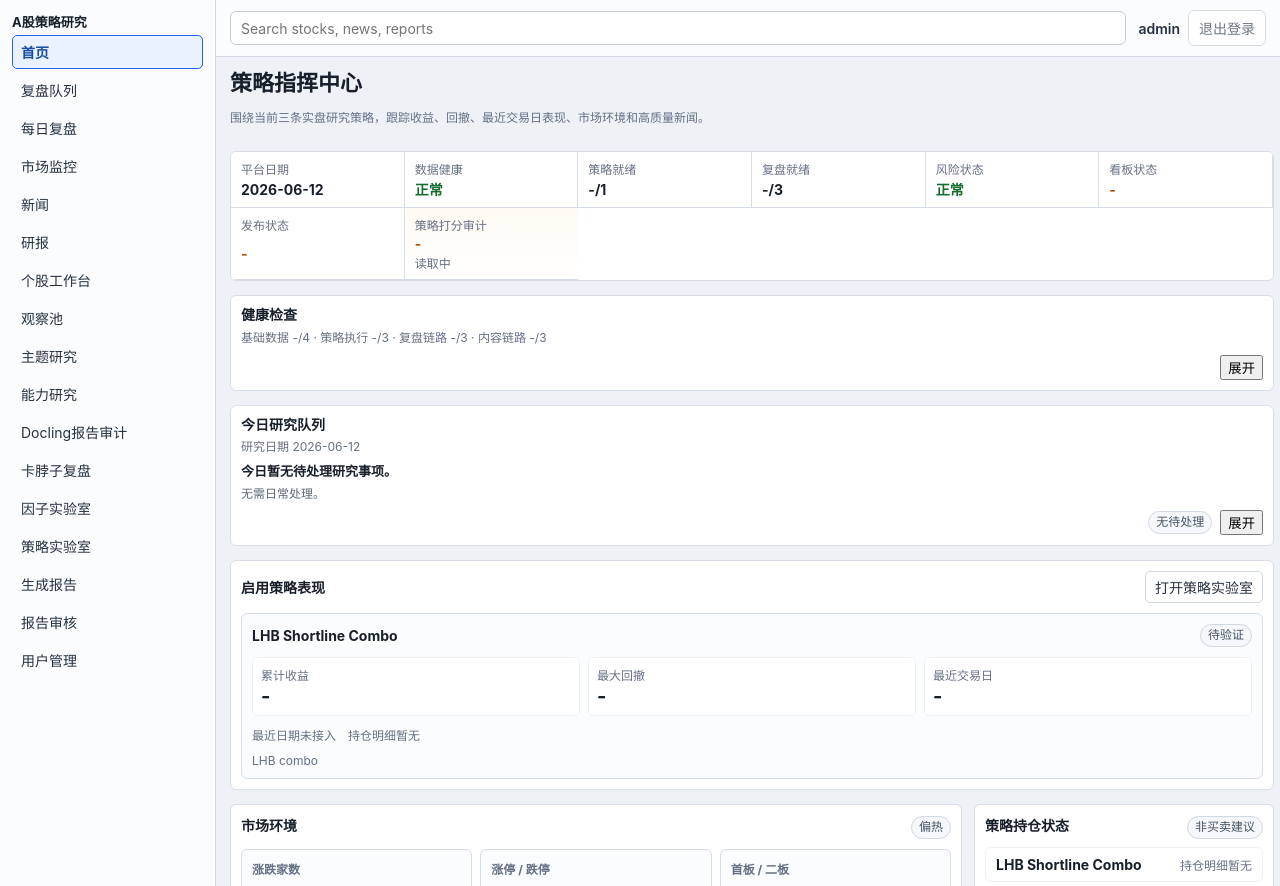
dashboard app shell › navigates between planned platform workspaces
Expected: the heading "策略指挥中心" is shown, [230,70,362,96]
Click the button with aria-label "Open Factor Lab workspace".
click(108, 508)  # box [12,491,203,525]
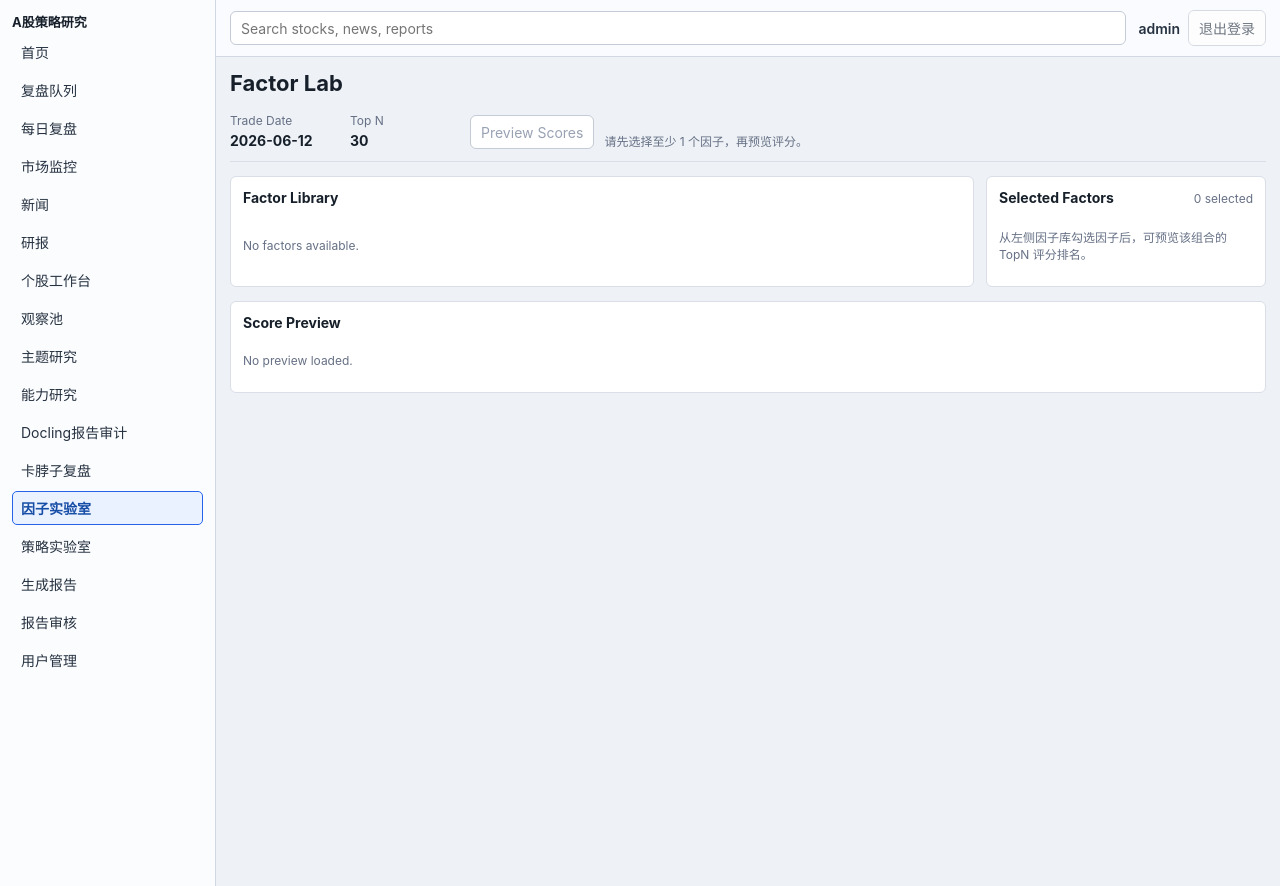
Result: the heading "Factor Lab" is shown at [230,70,343,96]
Click the button with aria-label "Open Strategy Lab workspace".
click(108, 546)  # box [12,529,203,563]
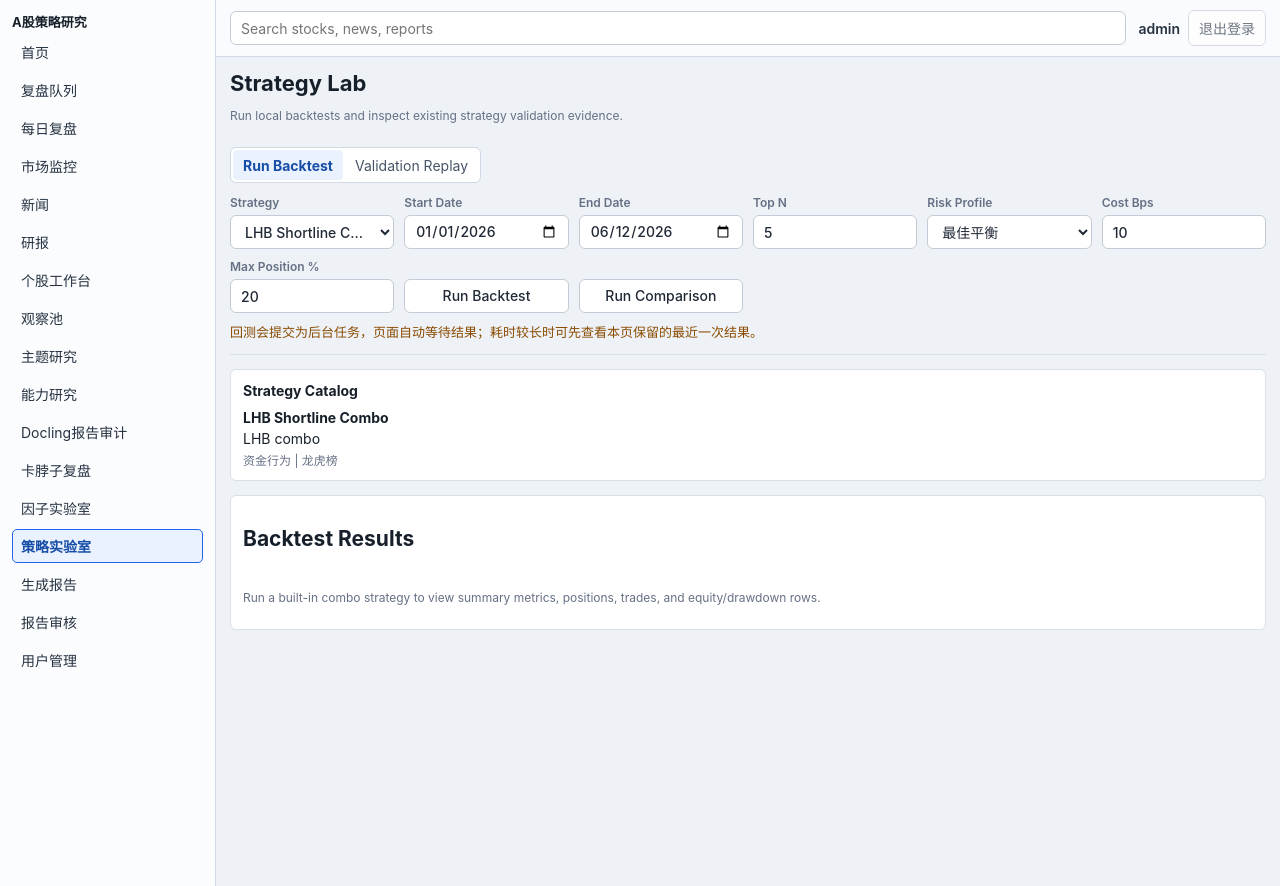
Result: the heading "Strategy Lab" is shown at [230,70,366,96]
Result: the tab "Run Backtest" is shown at [233,150,343,180]
Click the button with aria-label "Open Generated Reports workspace".
click(108, 584)  # box [12,567,203,601]
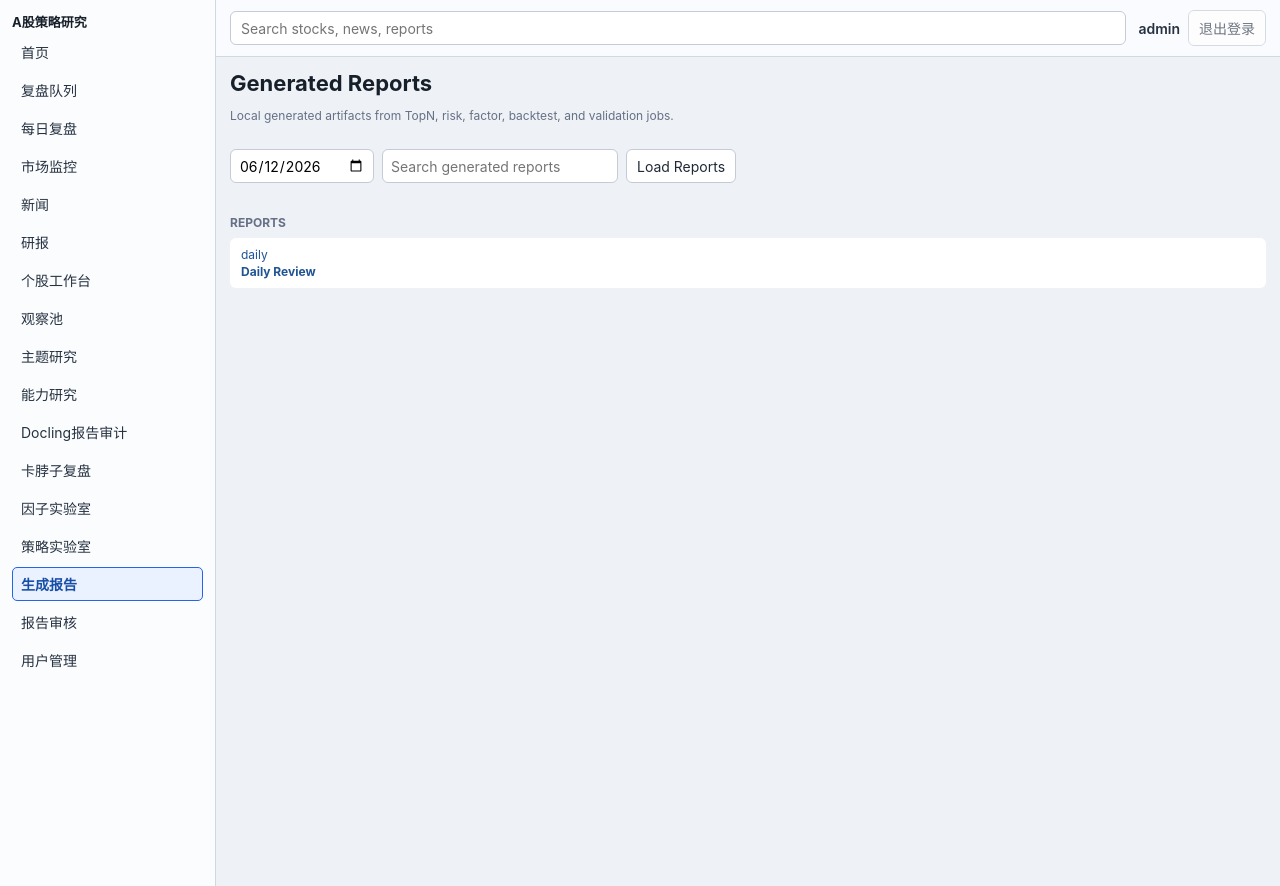
Result: the heading "Generated Reports" is shown at [230,70,432,96]
Result: the element named "Generated Reports workspace" is shown at [230,71,1266,288]
Click the button with aria-label "Open News workspace".
click(108, 204)  # box [12,187,203,221]
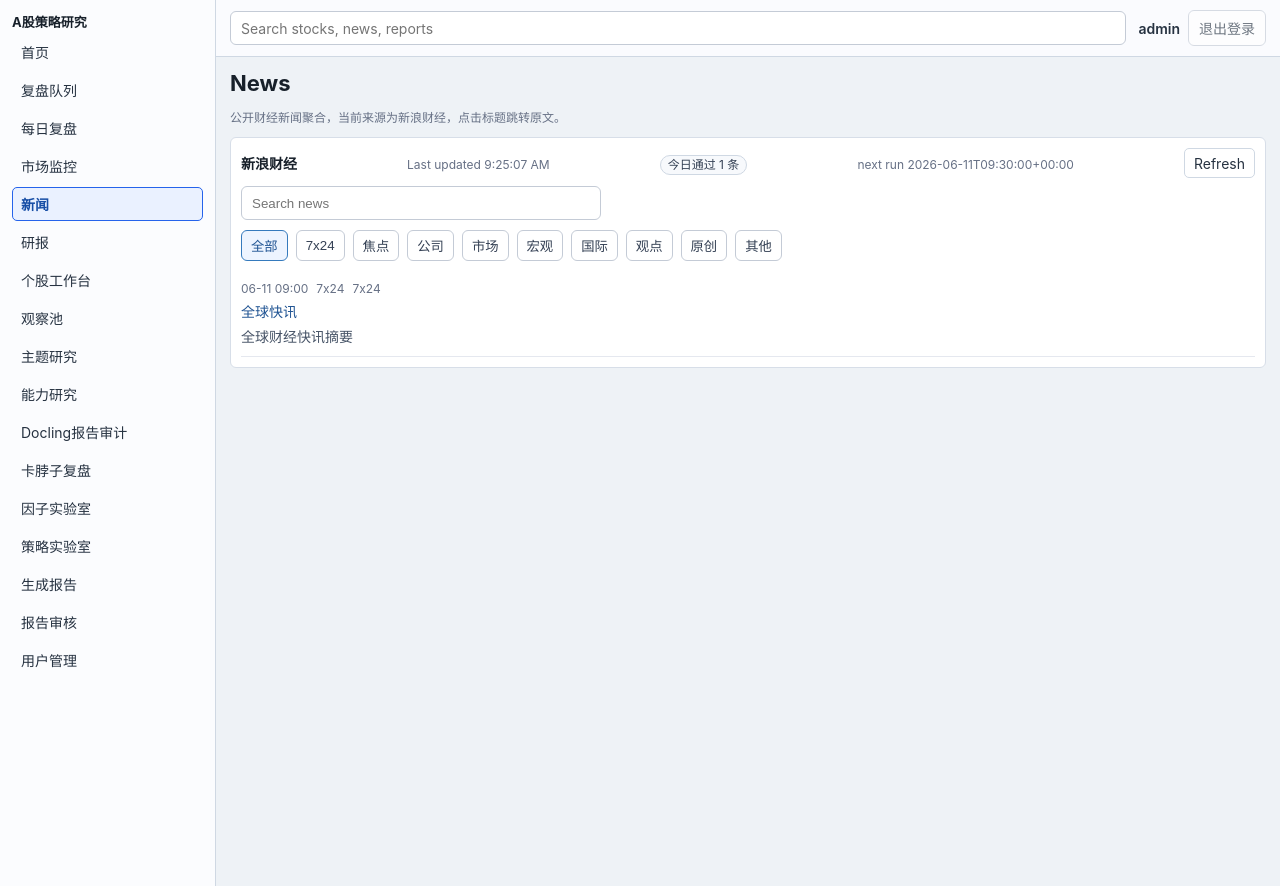
Result: the heading "News" is shown at [230,70,291,96]
Result: the link "全球快讯" is shown at [241,303,297,320]
